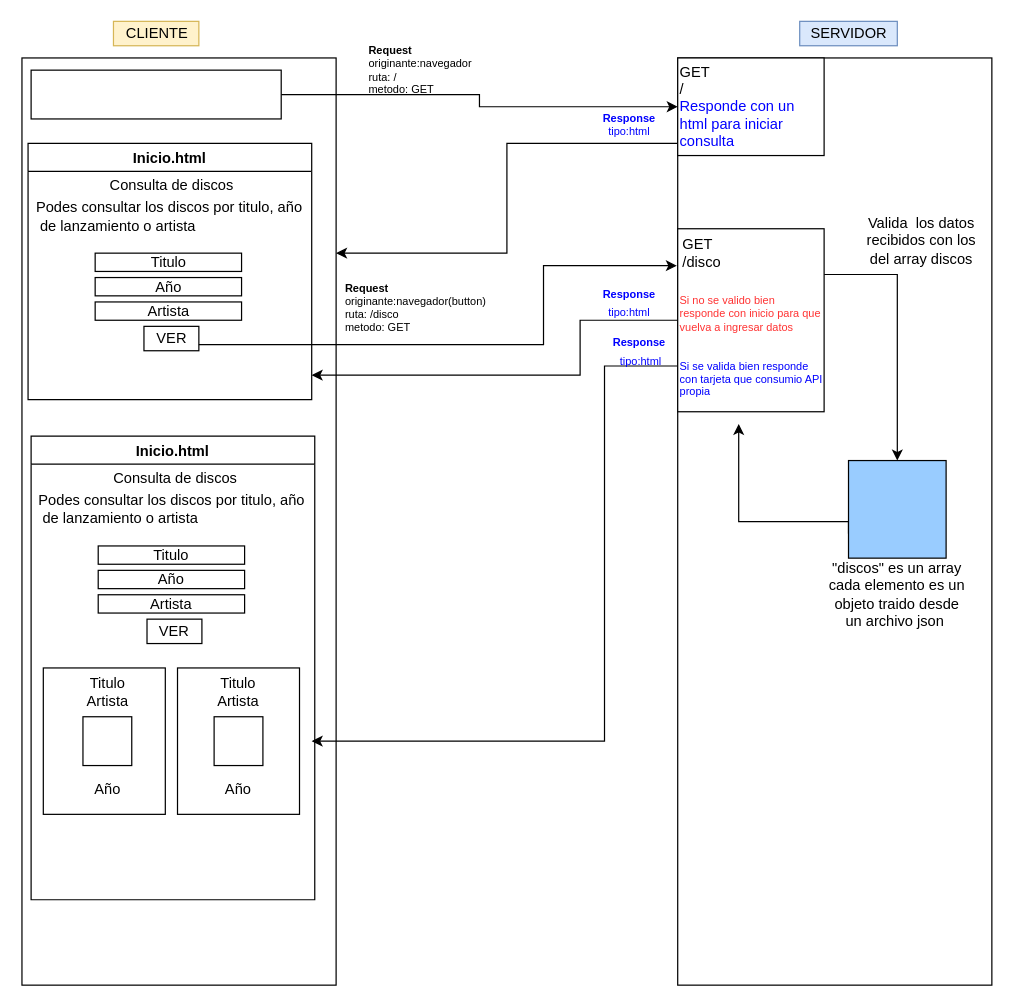
Some shapes in this 1013 by 1007 pixel diagram are drawn without their labels. The centre of each missing label's shape, as x and y in pixels:
discos: the point at 896,508
Navegacion a la url del server (localhost:4040): the point at 155,94
